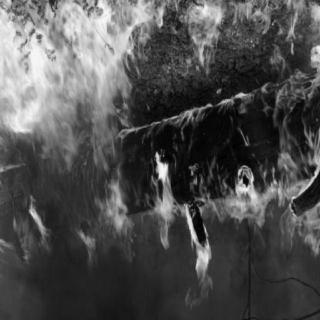Fire: (0, 2, 318, 302)
